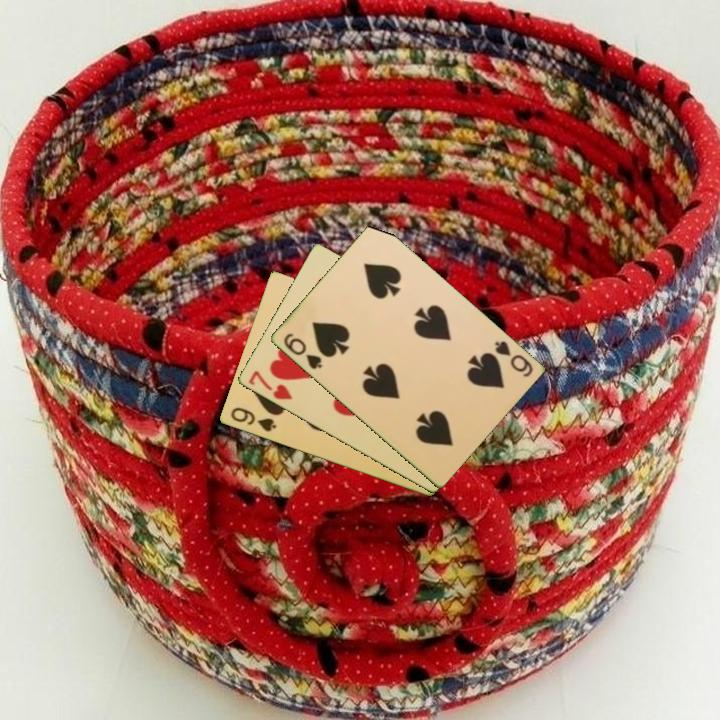6s: (280, 329, 325, 372), (491, 337, 536, 380)
7h: (244, 367, 295, 403)
9s: (227, 404, 279, 435)
